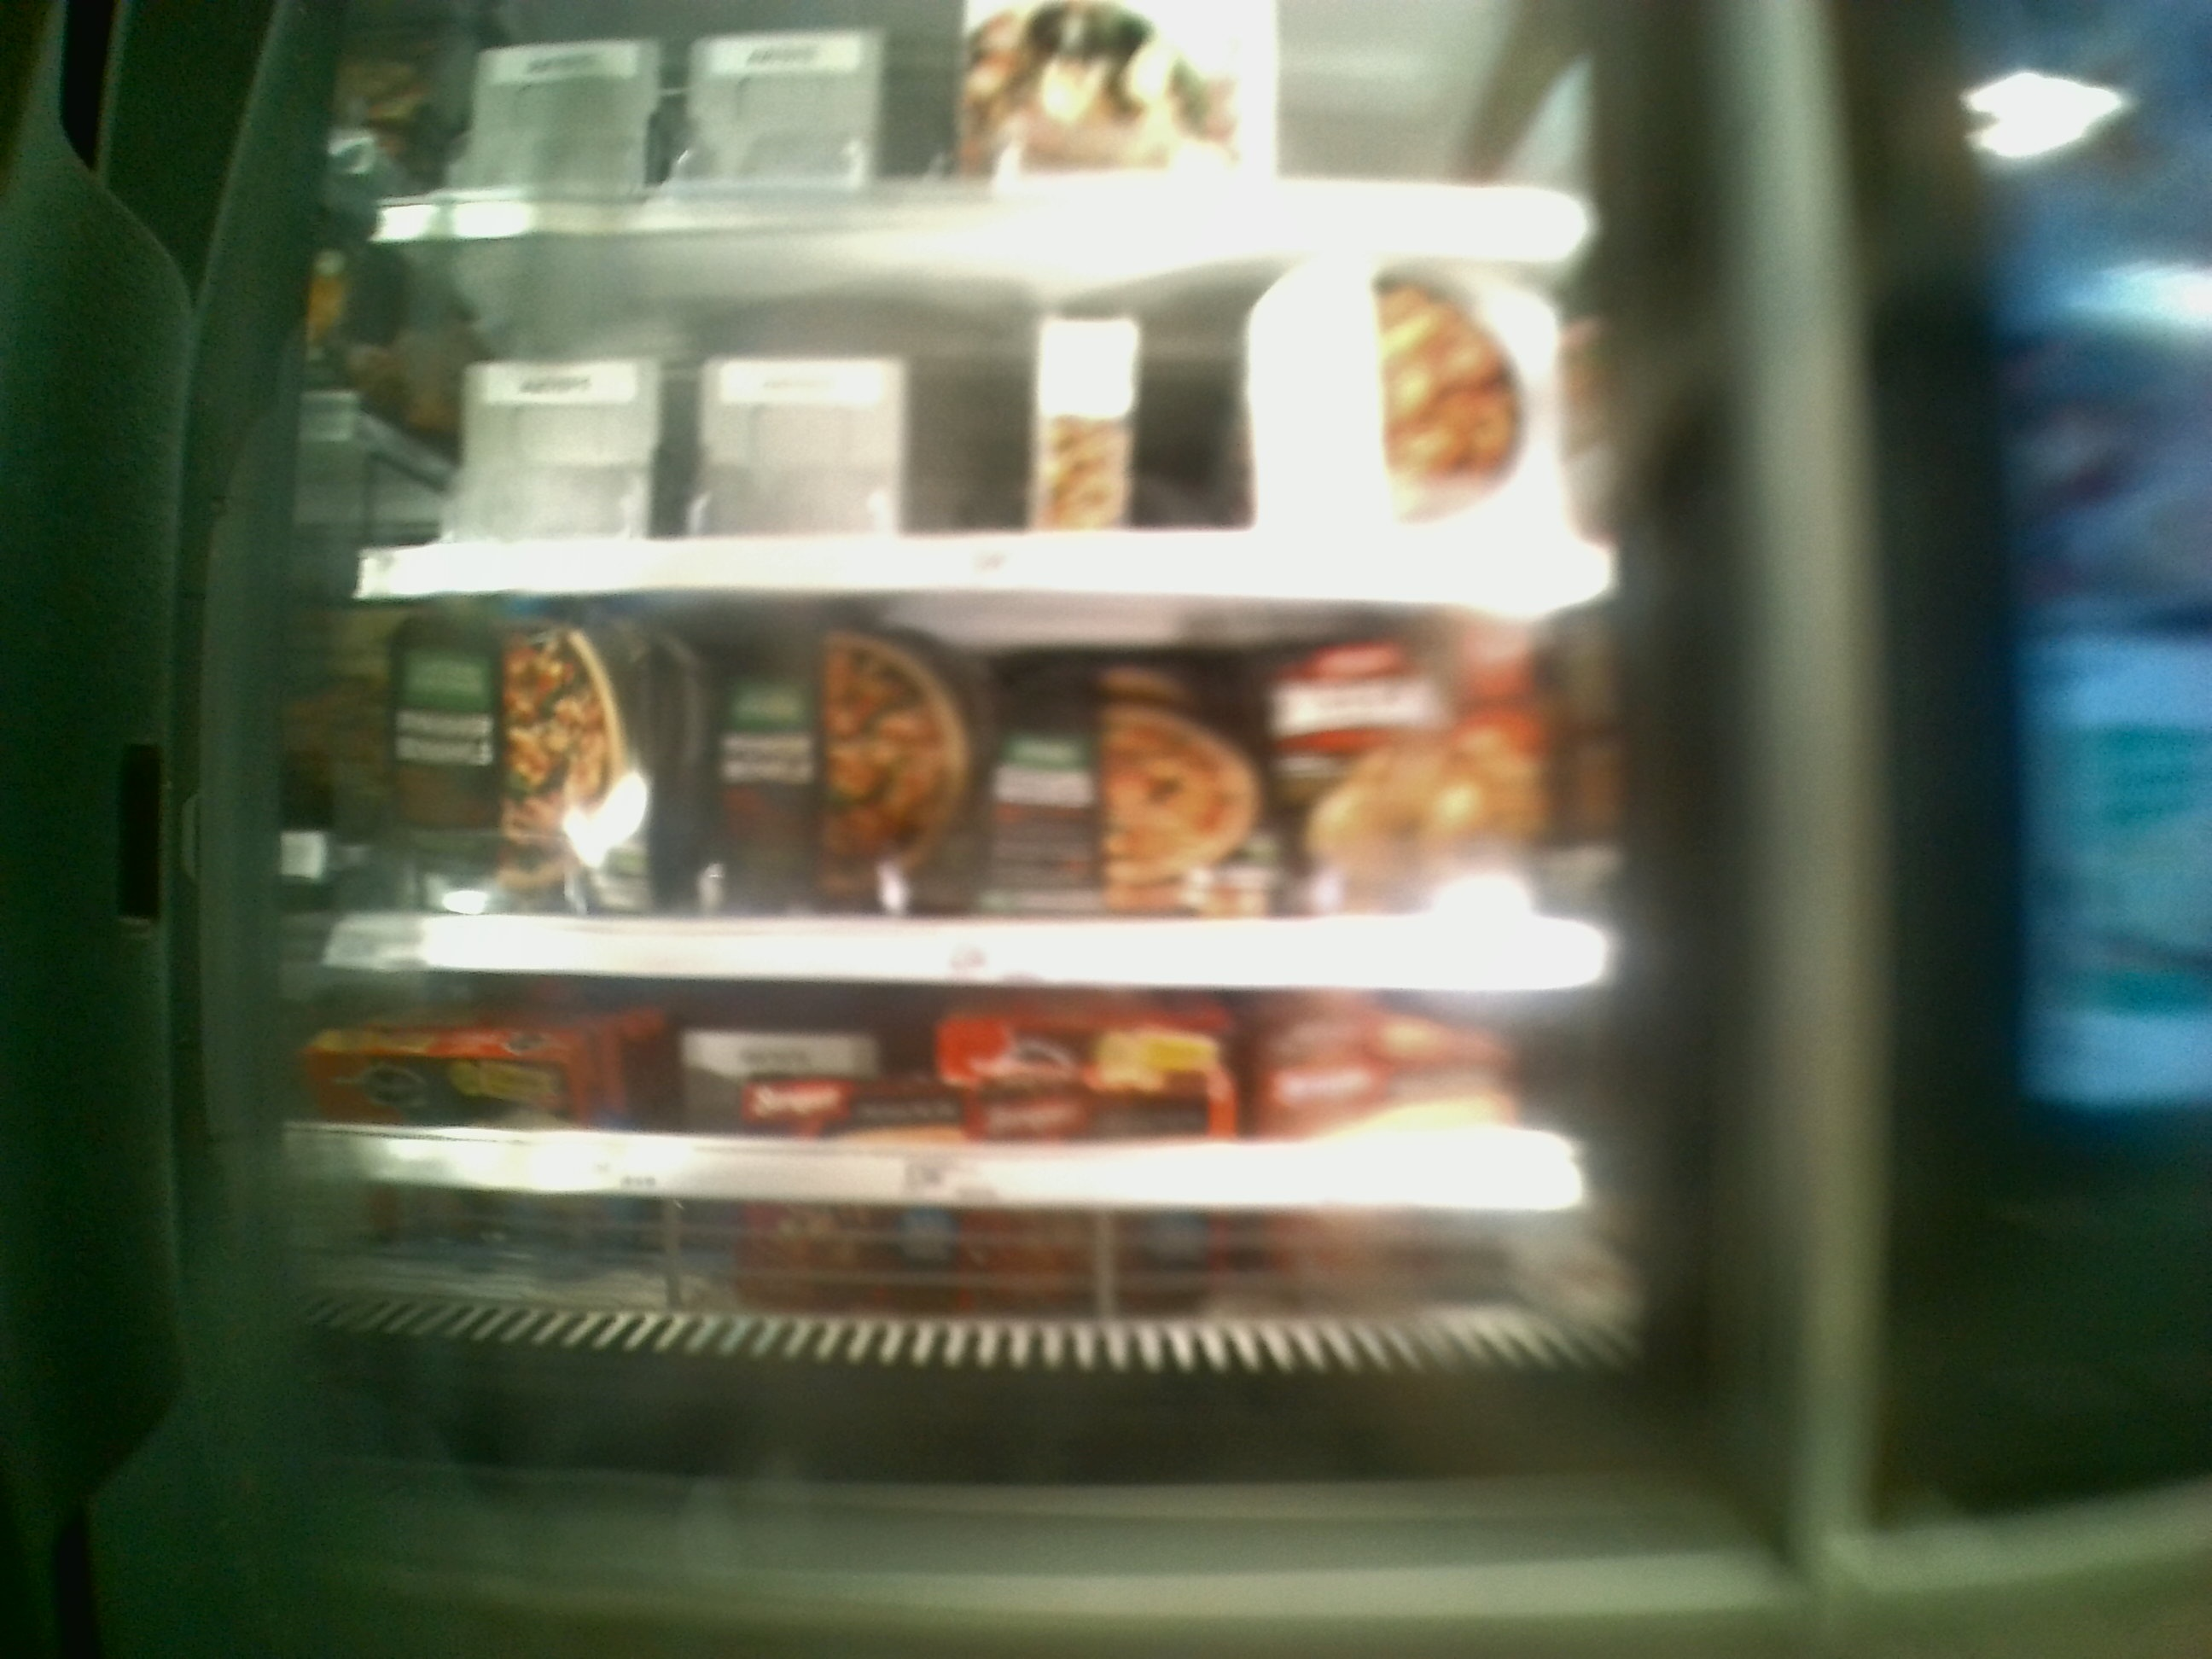shelf: (301, 972, 1611, 1371), (331, 601, 1606, 988)
